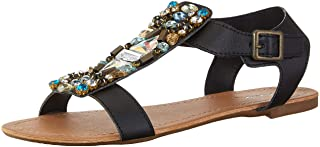shoes: (1, 1, 320, 146)
